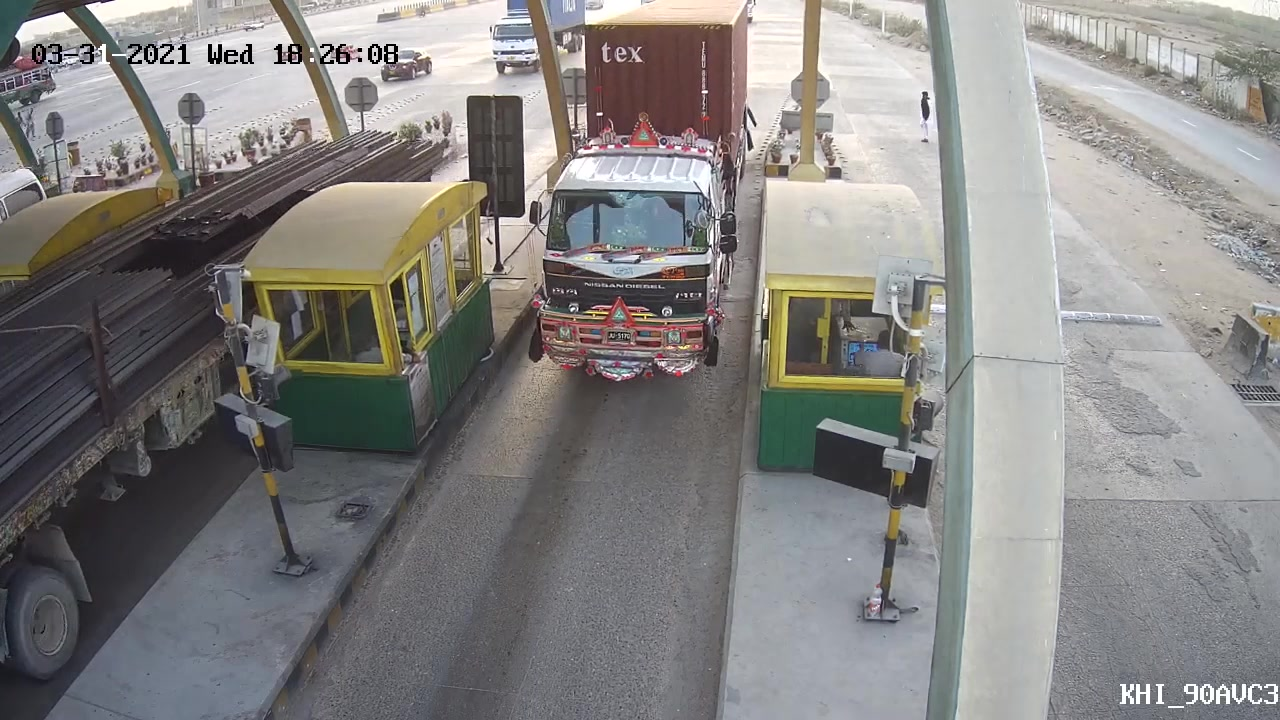F6: (523, 69, 752, 387)
